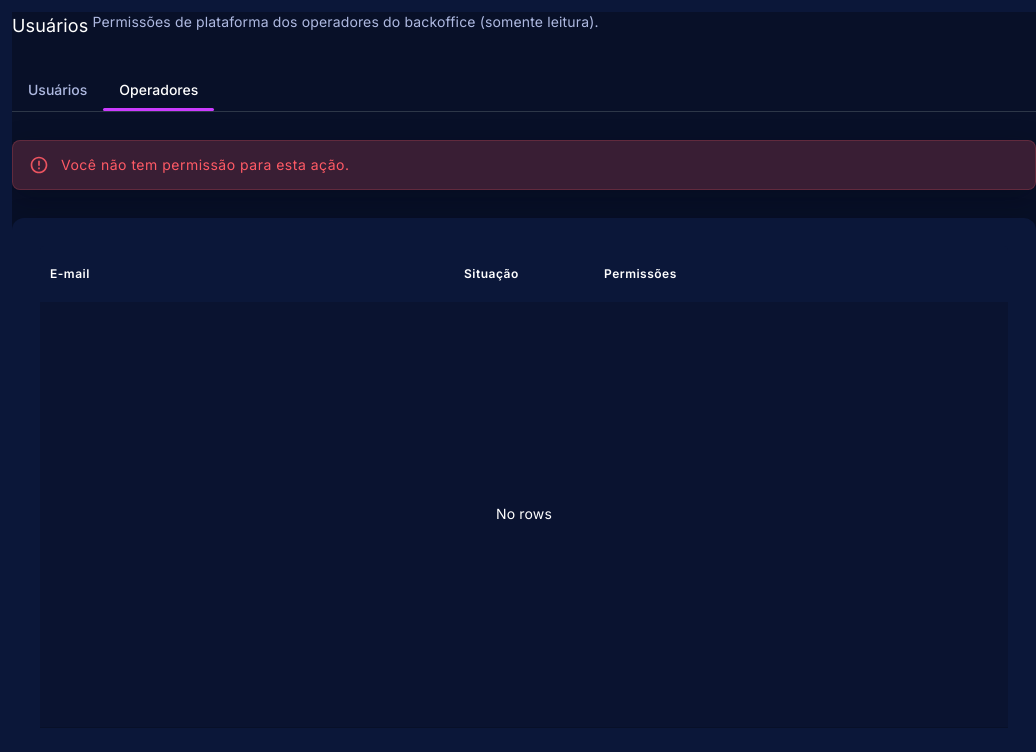
Test: Users page › keeps the Users tab available when operators listing returns 403
expect the tab "Operadores" is shown: met, box 103,69 -> 214,111
expect the text "Você não tem permissão para esta ação." is shown: met, box 61,156 -> 350,173
What coordinates should you click on to do the following:
click the tab "Usuários"
I would click on:
 (58, 90)
Its box is 12,69 -> 103,111.
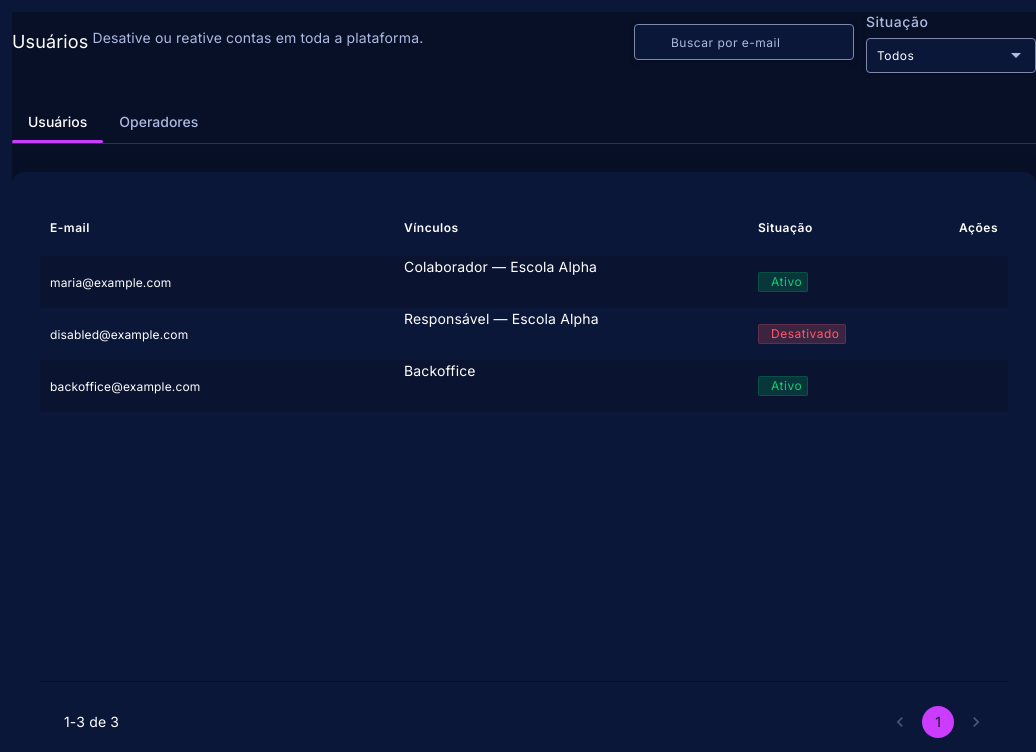
expect the text "maria@example.com" is shown: met, box 50,275 -> 172,290
expect the text "Você não tem permissão para esta ação" is gone: met
